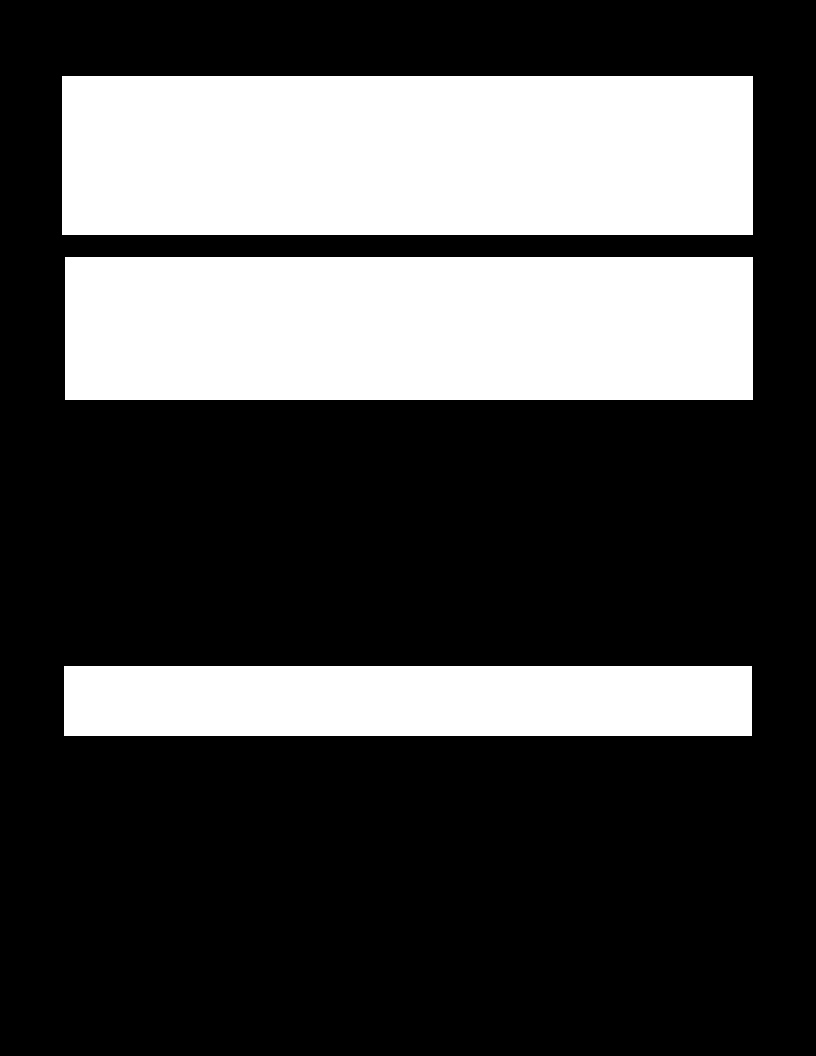table: (62, 76, 752, 234), (65, 257, 752, 399), (64, 666, 751, 735)
